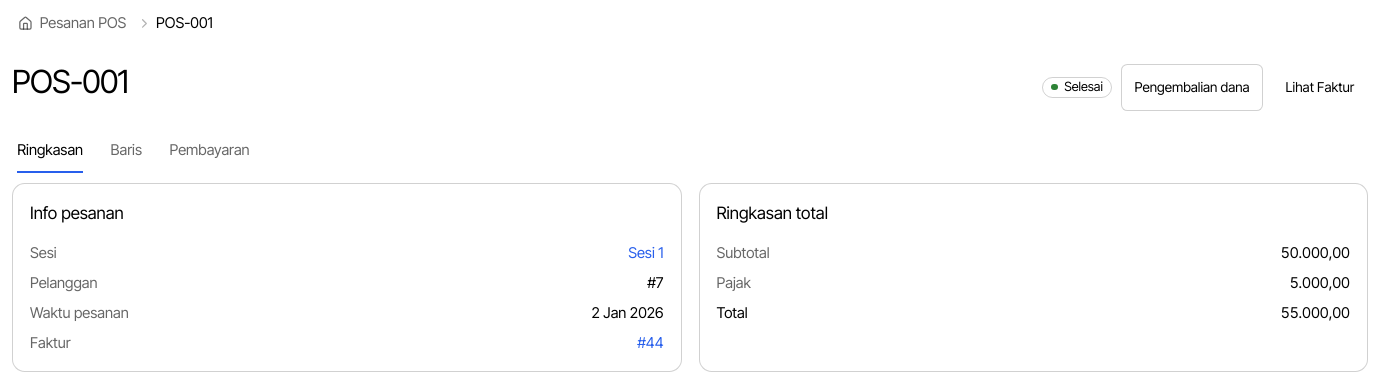
Test case: PosOrderDetail branches2 › shows discount and invoice link branches when present
Expected: the heading "POS-001" is shown, [12,64,128,100]
Click the tab "Baris". click: coordinates (126, 151)
box: [110,128,143,174]
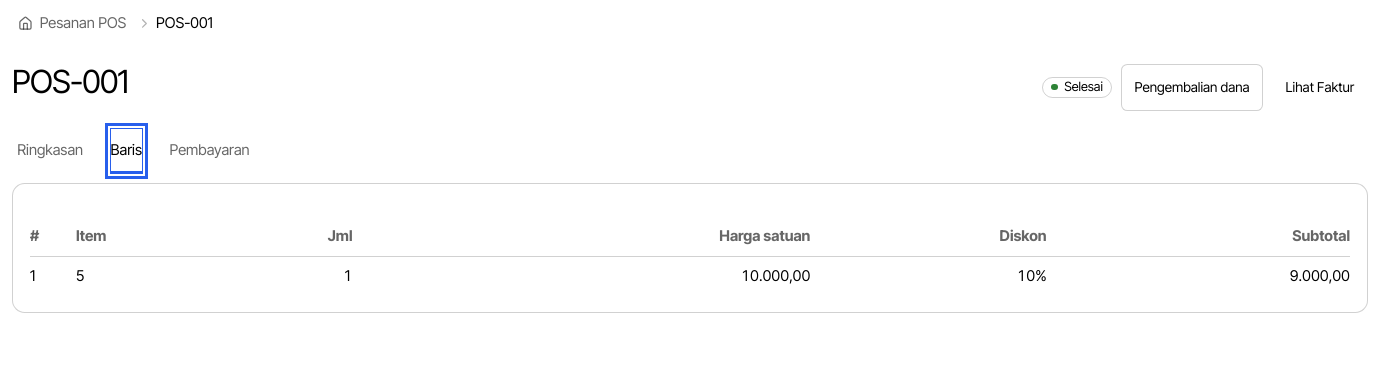
Expected: the text "10%" is shown, [810,256,1047,295]
